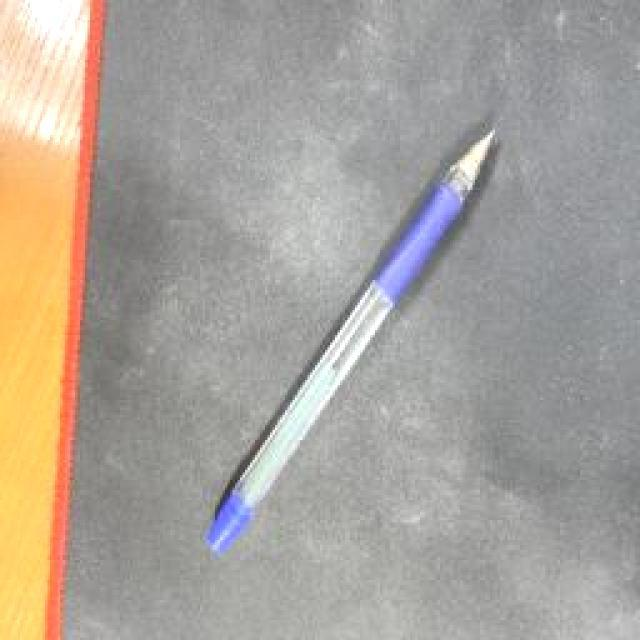pen: (205, 128, 495, 556)
